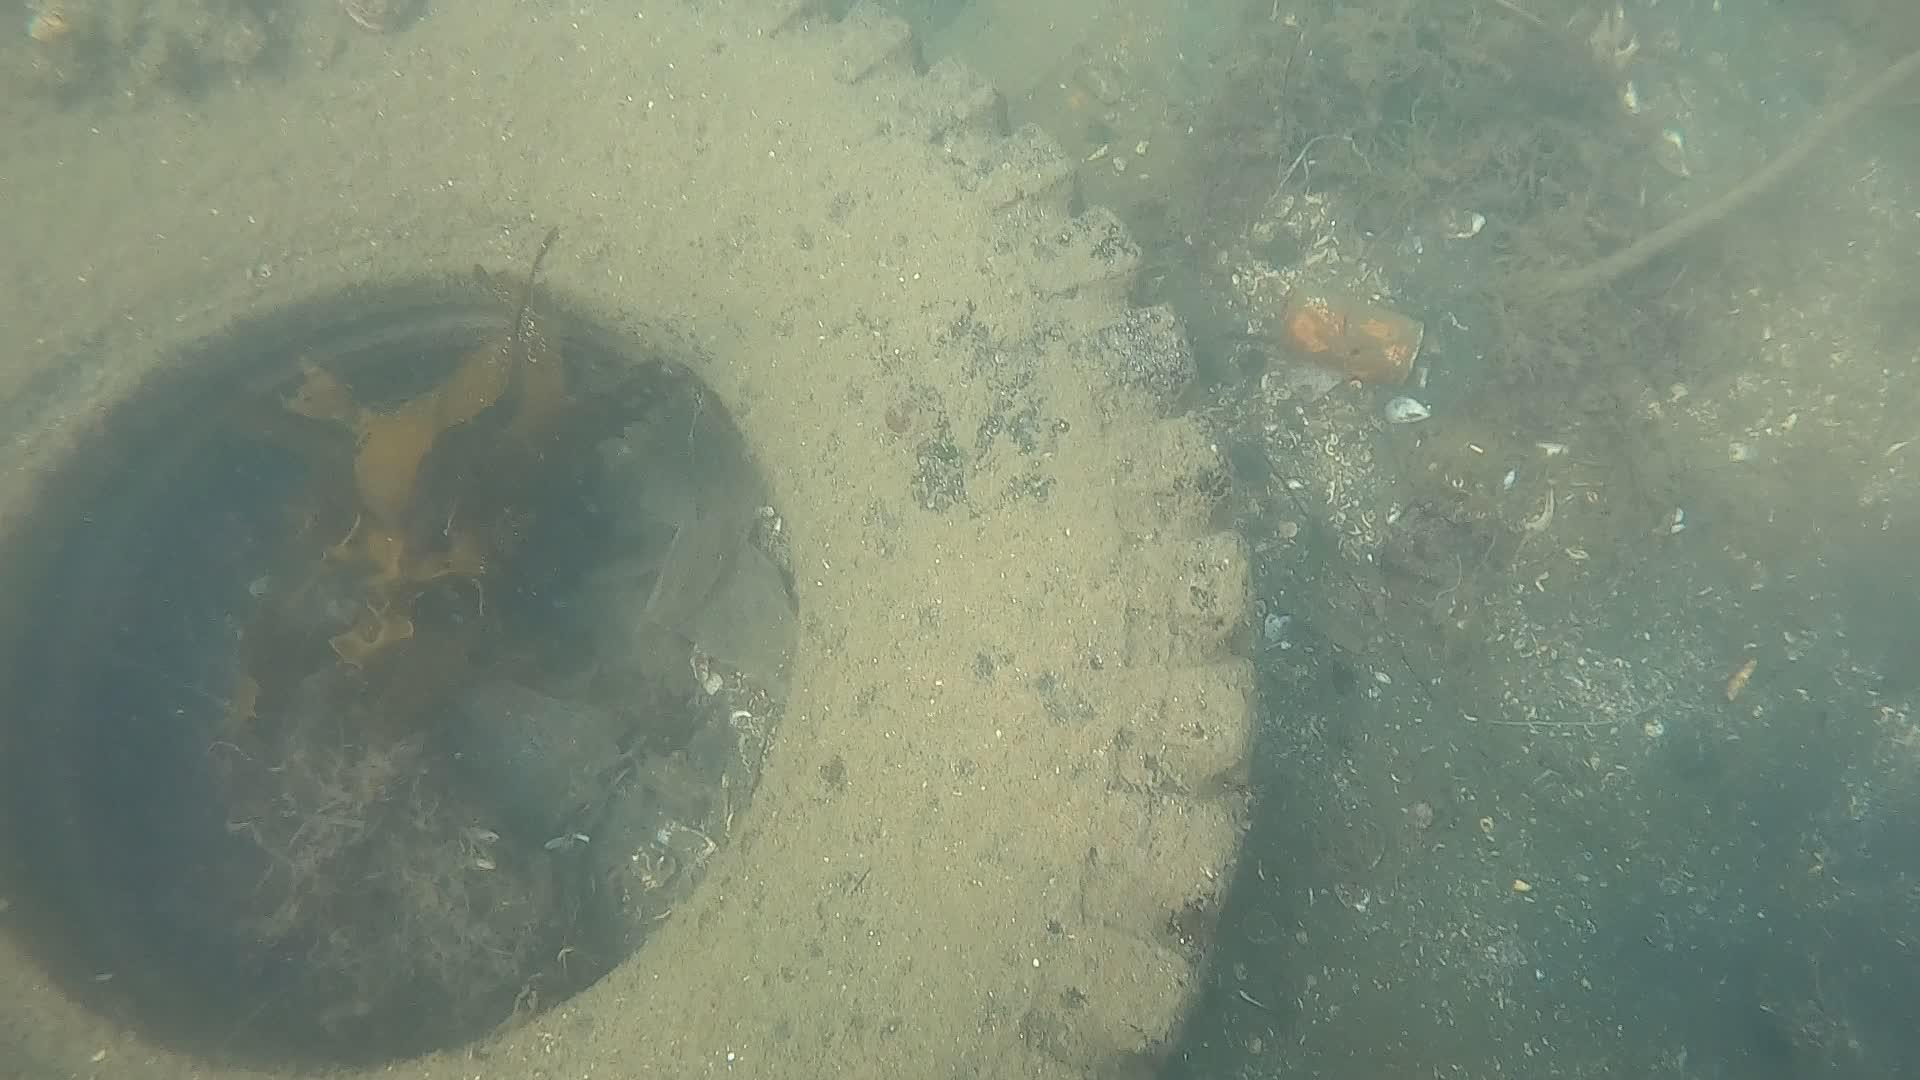tire: (0, 3, 1251, 1080)
